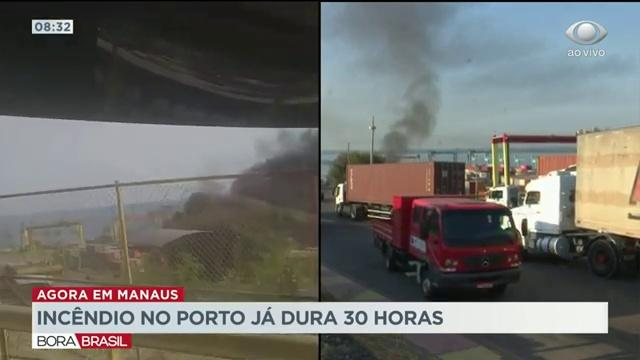smoke: (366, 3, 439, 78), (388, 97, 426, 155)
